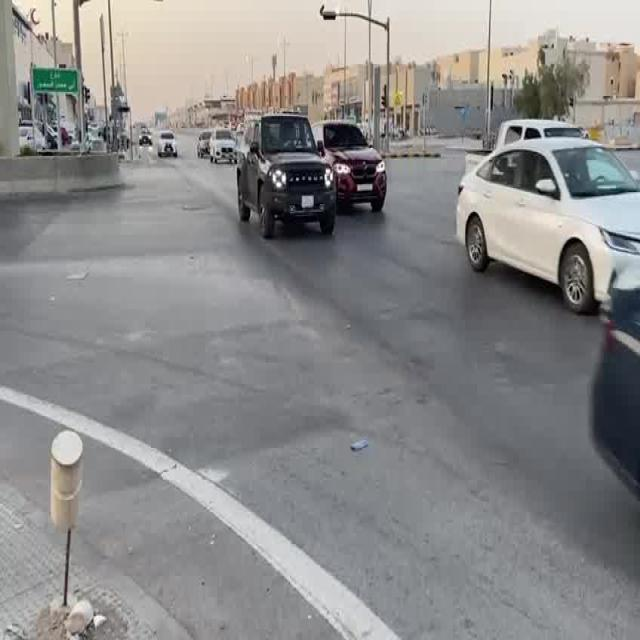bus: (457, 135, 640, 316), (236, 111, 338, 238), (319, 121, 388, 212), (494, 119, 594, 154), (210, 129, 238, 163), (156, 129, 179, 158), (196, 130, 213, 159)
car: (179, 209, 640, 640)
lanes: (226, 209, 639, 634)
lanes2: (260, 205, 640, 474)
lanes3: (286, 201, 640, 404)
lanes4: (327, 192, 640, 313)
